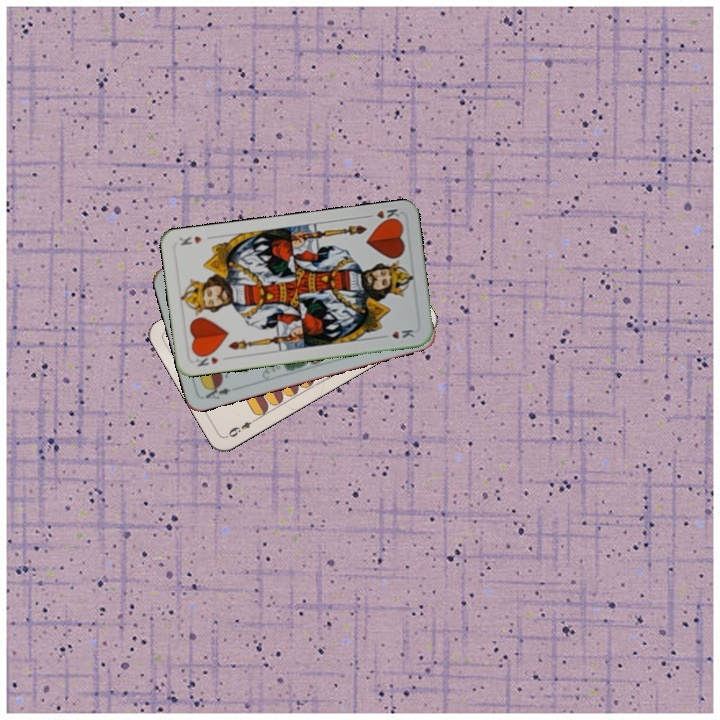E9: (223, 414, 260, 440)
EA: (201, 380, 233, 402)
HK: (362, 204, 403, 226), (192, 349, 221, 369)
